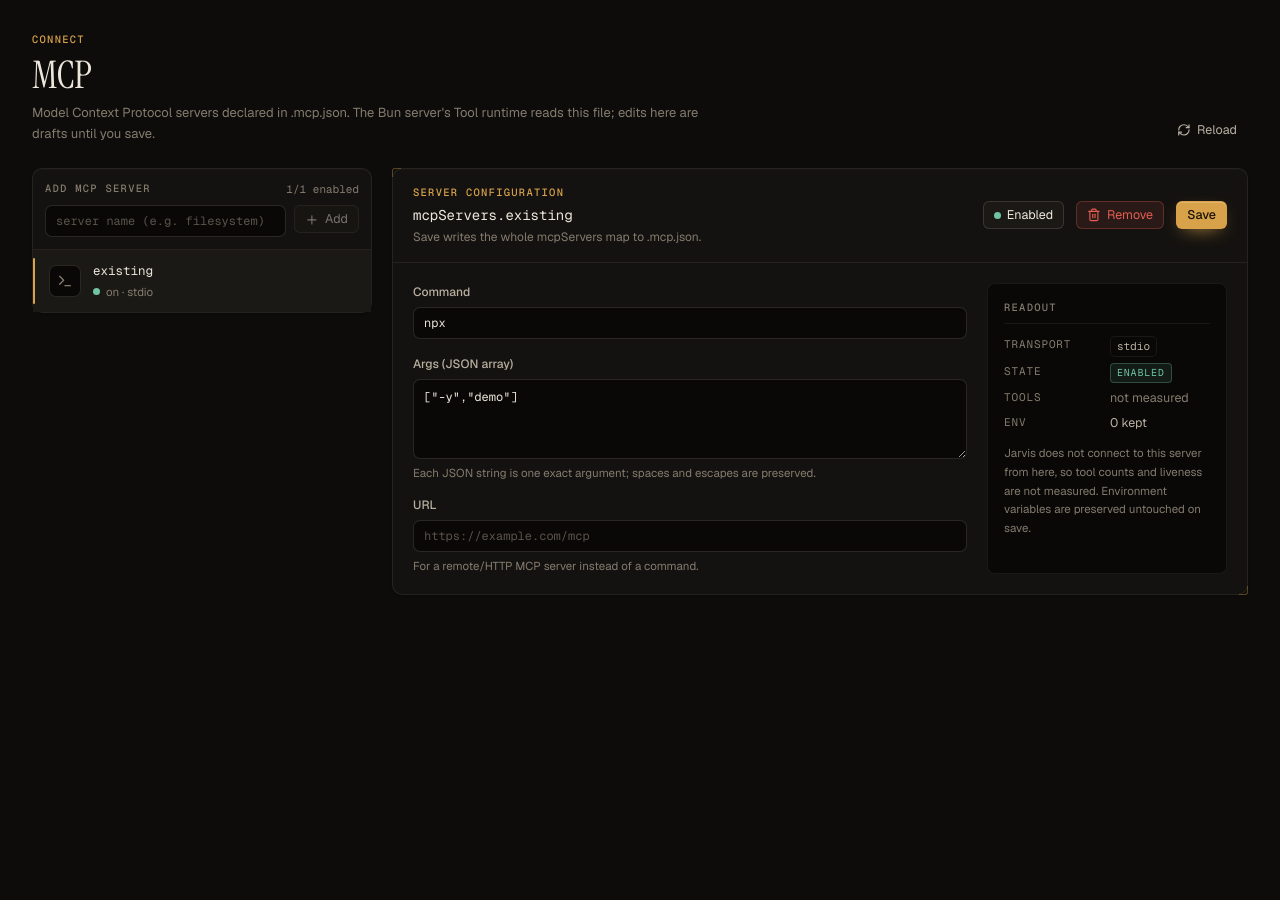
it: MCP persistence drafts and serialization › keeps a rejected removal as an explicit unsaved draft until a retry persists it
Expected: the field with placeholder "server name (e.g. filesystem)" is shown, left=45, top=205, right=286, bottom=237
Click the button "Remove" at (1120, 215), box left=1076, top=201, right=1164, bottom=229
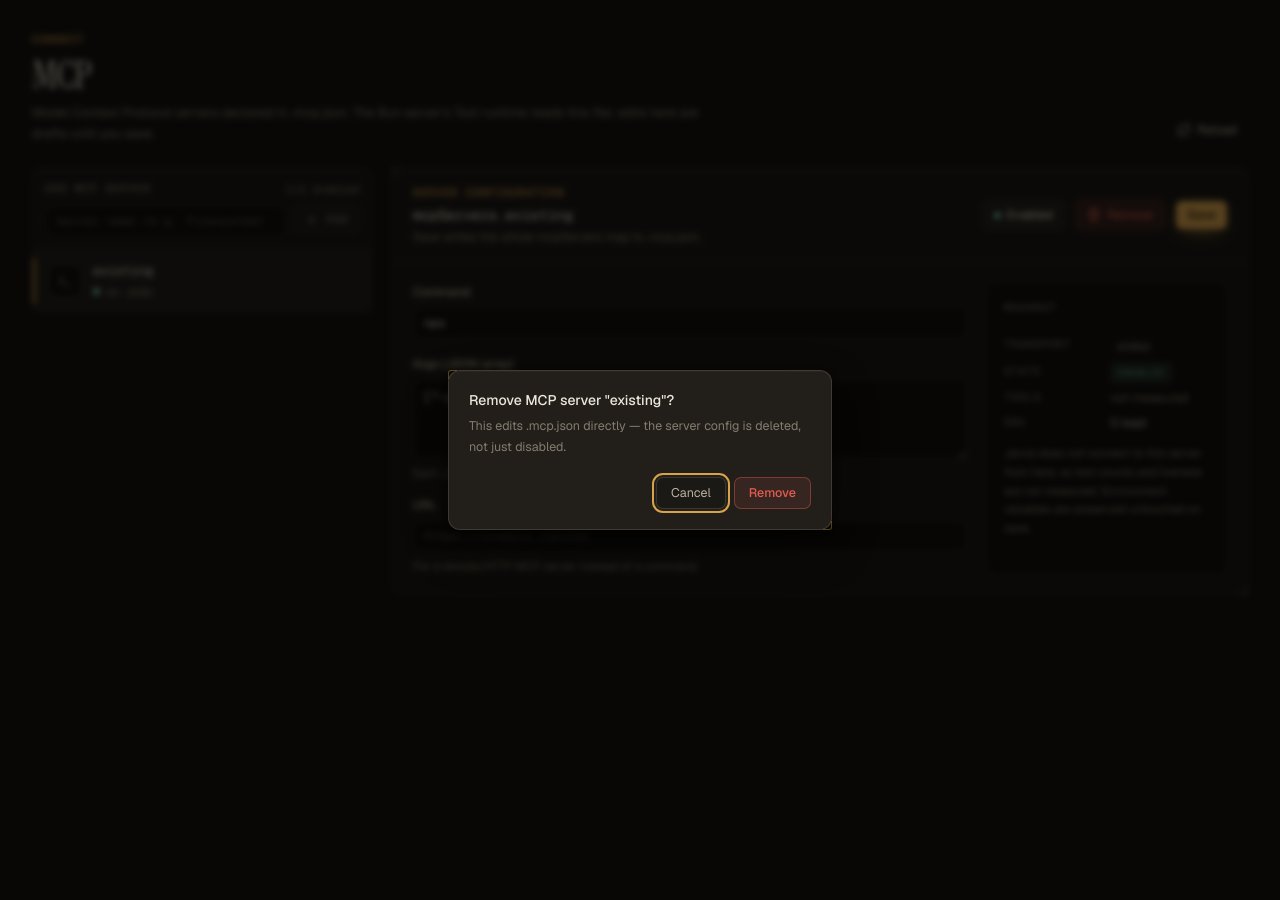
Click the button "Remove" at (772, 493), box left=734, top=477, right=811, bottom=509
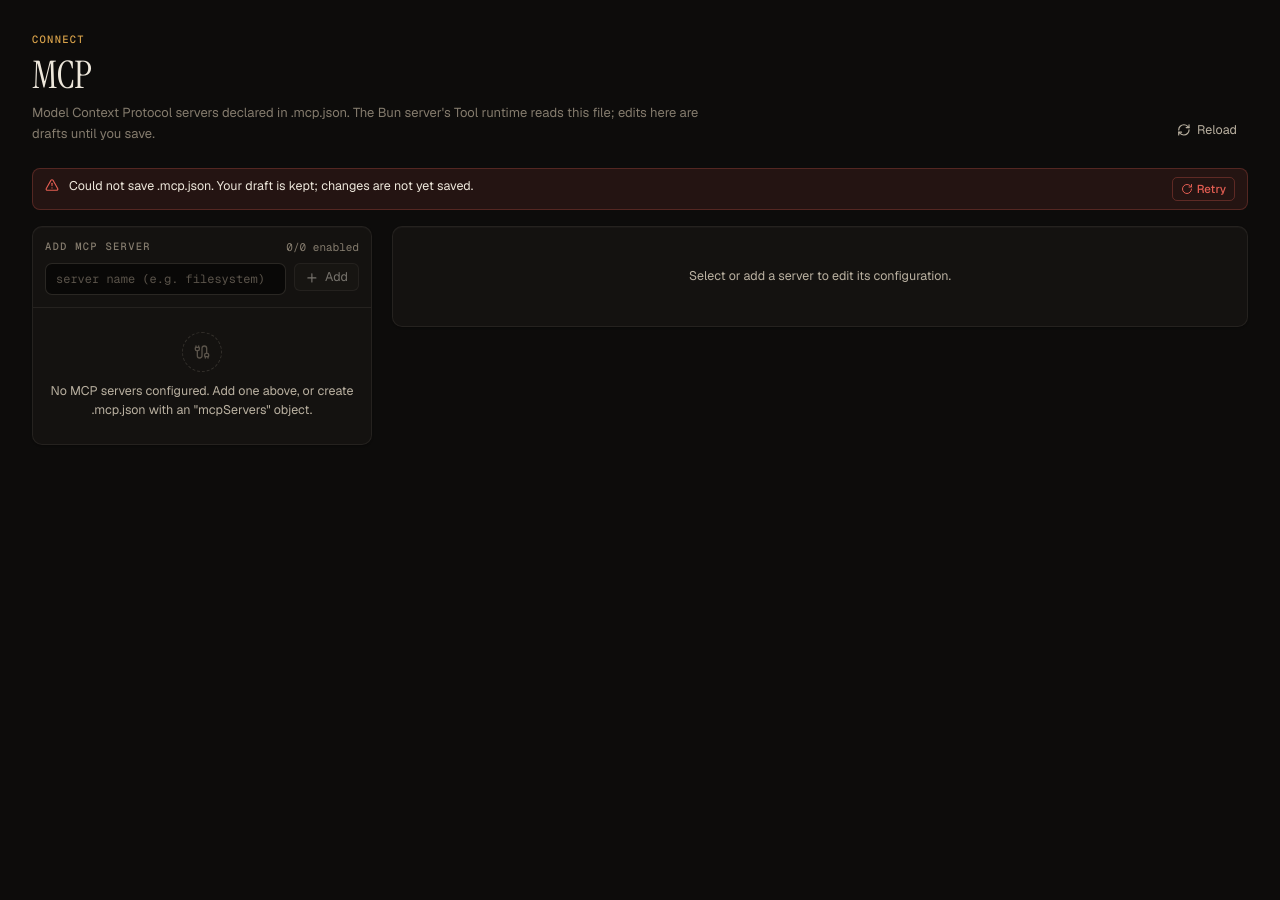
Now the message shows "not yet saved", box left=69, top=177, right=473, bottom=194
Now the button "existing" is gone
Click the button "Retry" at (1203, 189), box left=1172, top=177, right=1235, bottom=201
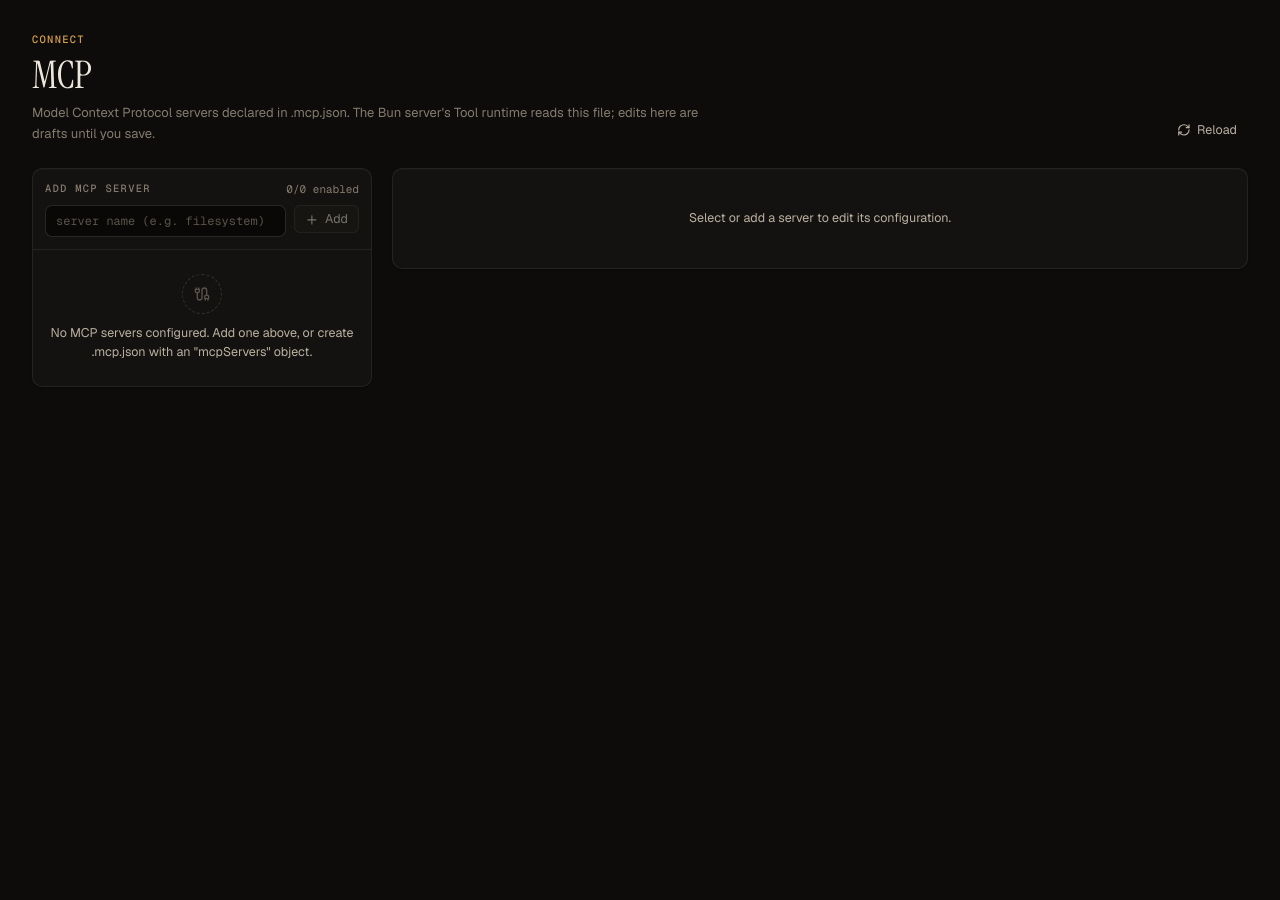
Expected: the button "existing" is not shown
Now the message "Could not save .mcp.json. Your draft is kept; changes are not yet saved. Retry" is gone
